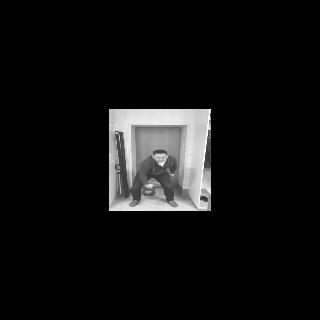kettlebell: (143, 186, 155, 196)
